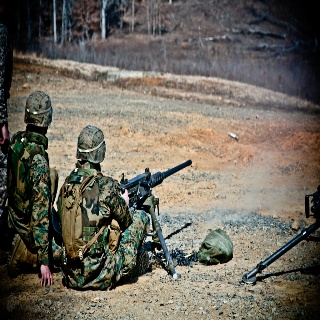rifle: (114, 158, 199, 280)
